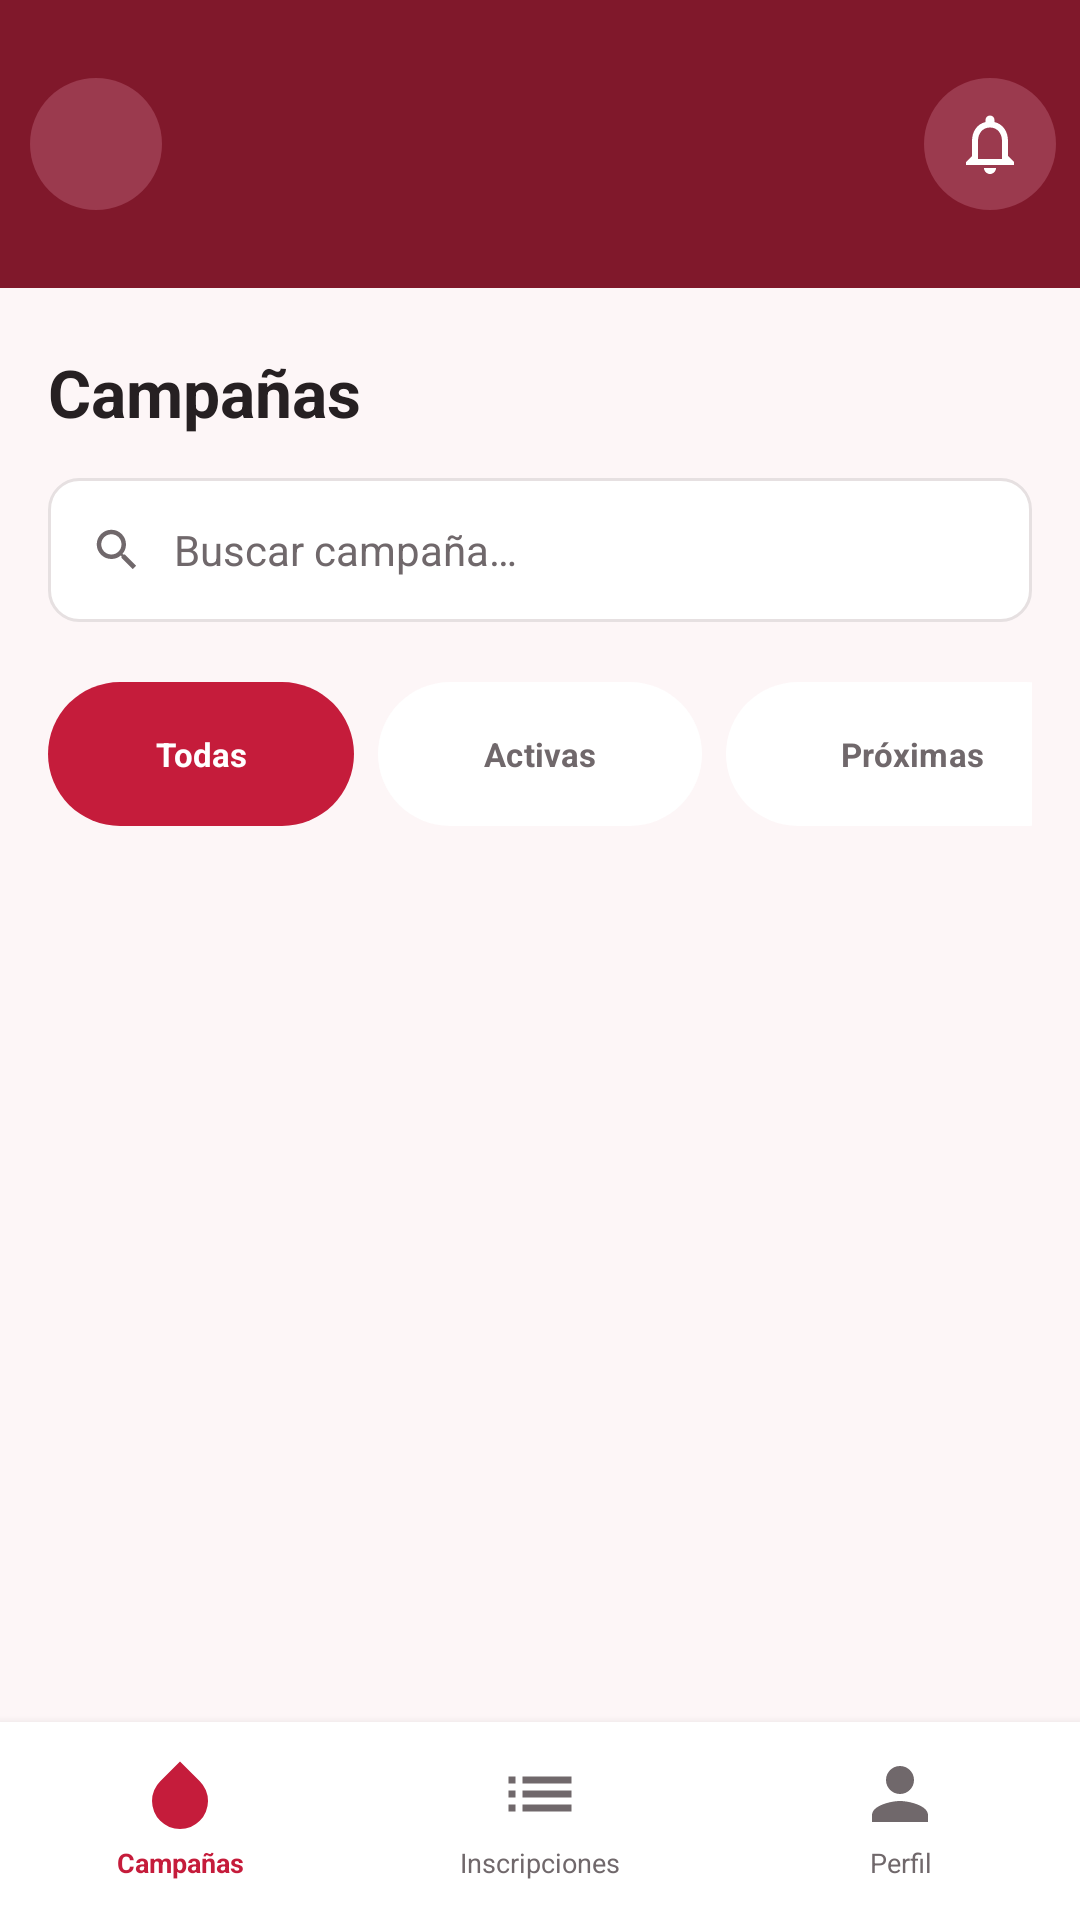

Named icons in this screenshot (1080×1920) and their bounding boxes, (x1=x1, y1=y1, x2=x2, y2=y2):
Notificaciones: (x1=924, y1=78, x2=1056, y2=210)
